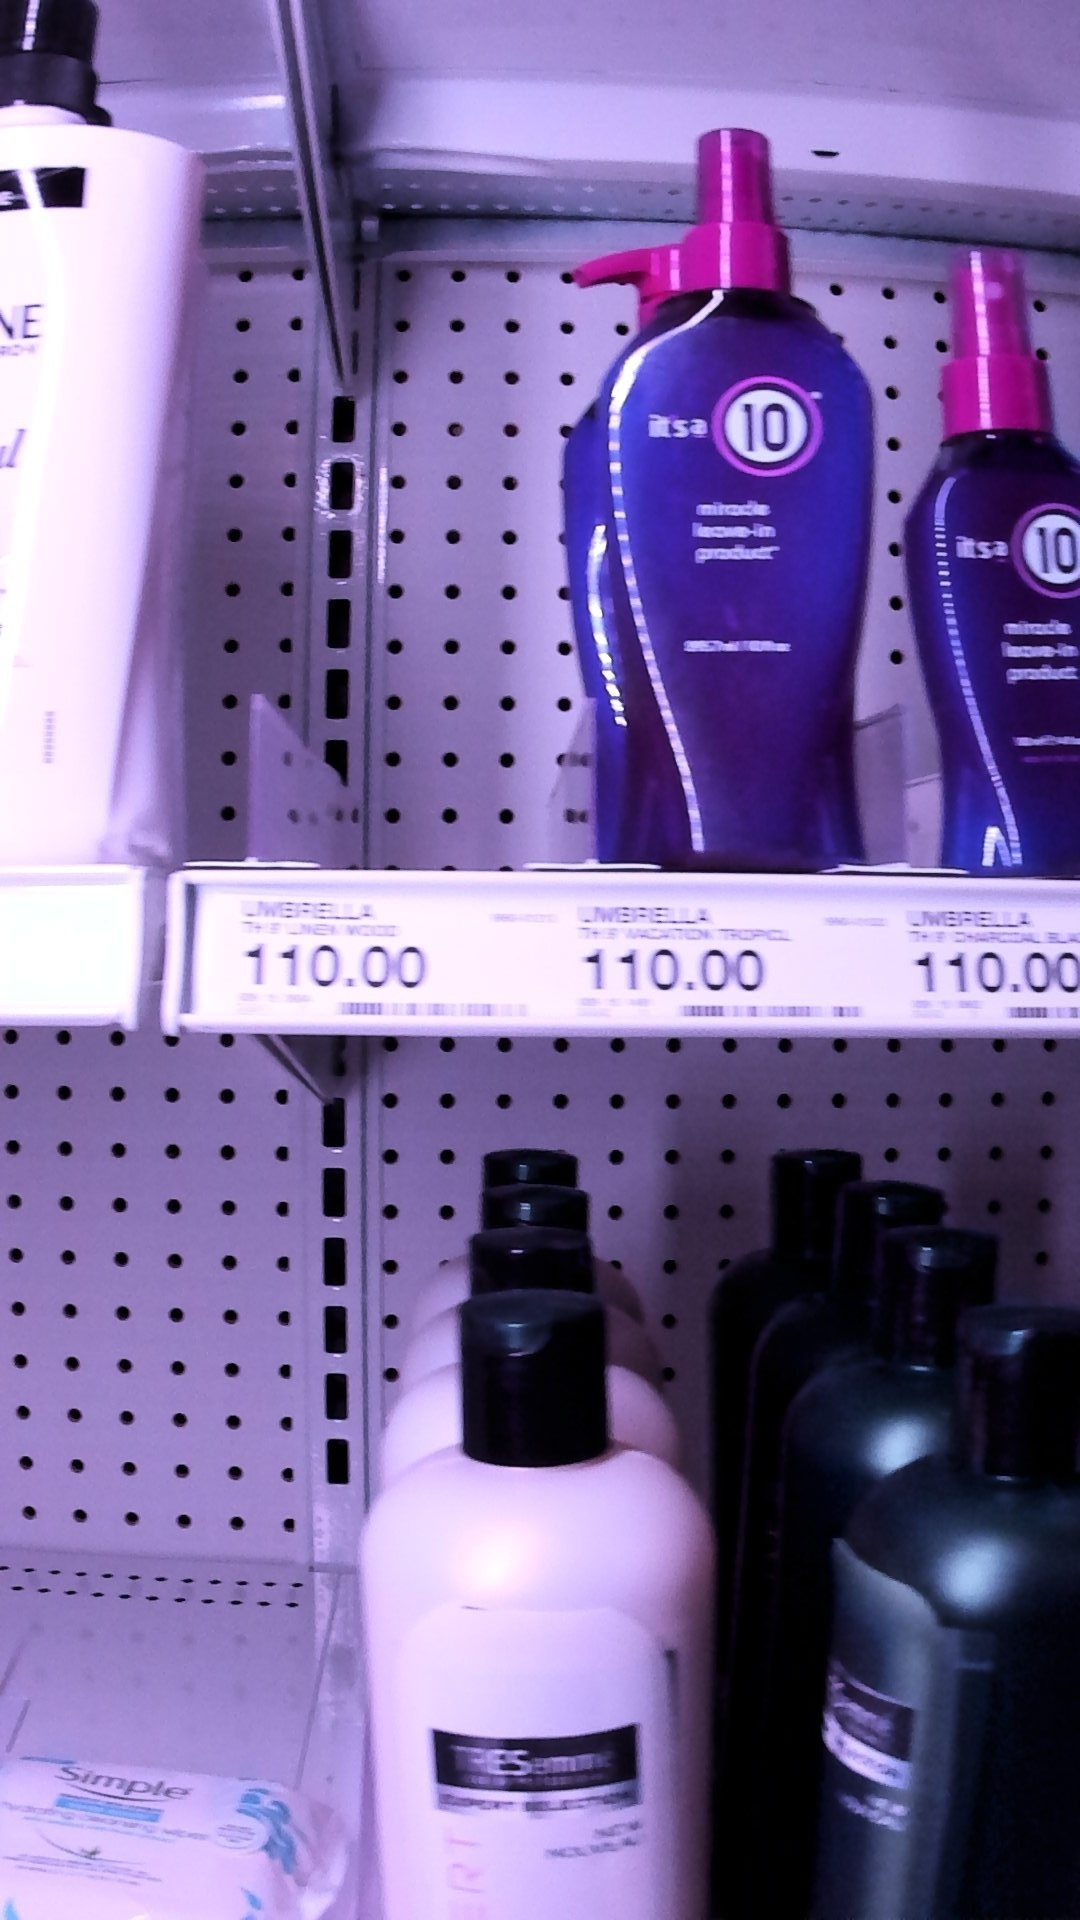ptag: (186, 880, 533, 1035), (568, 876, 866, 1040), (902, 876, 1080, 1022)
